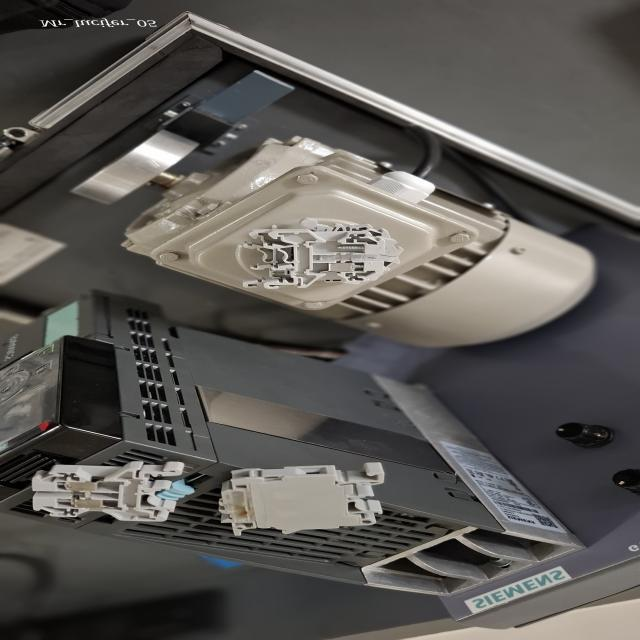Pass: (28, 459, 190, 524)
Reject: (236, 218, 409, 292)
